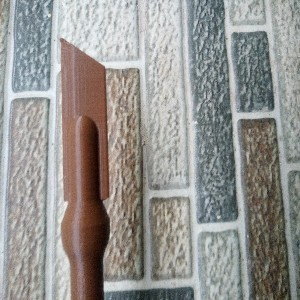cutter: (59, 36, 112, 300)
